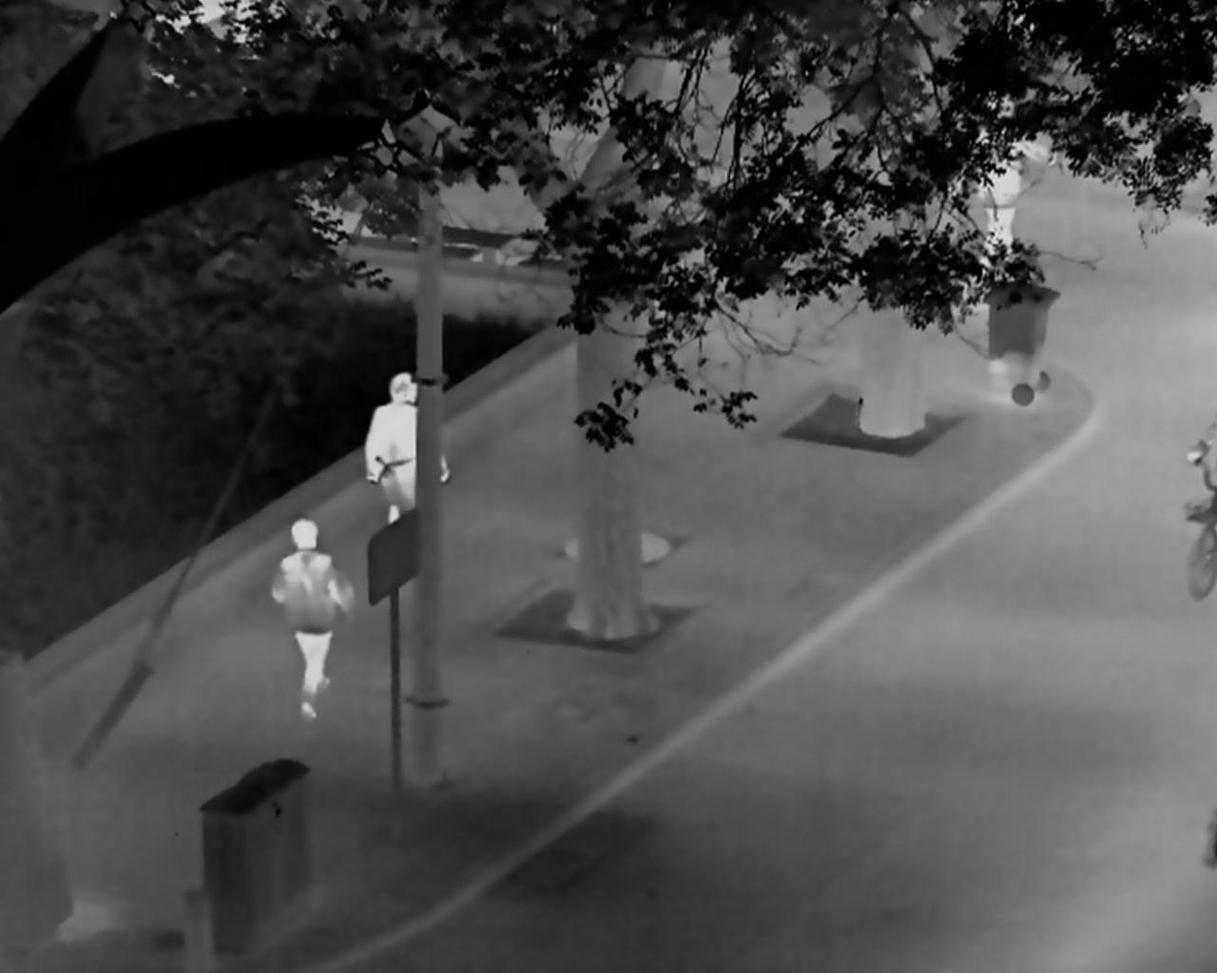person: (960, 93, 1058, 289), (272, 518, 357, 719), (364, 372, 452, 527)
